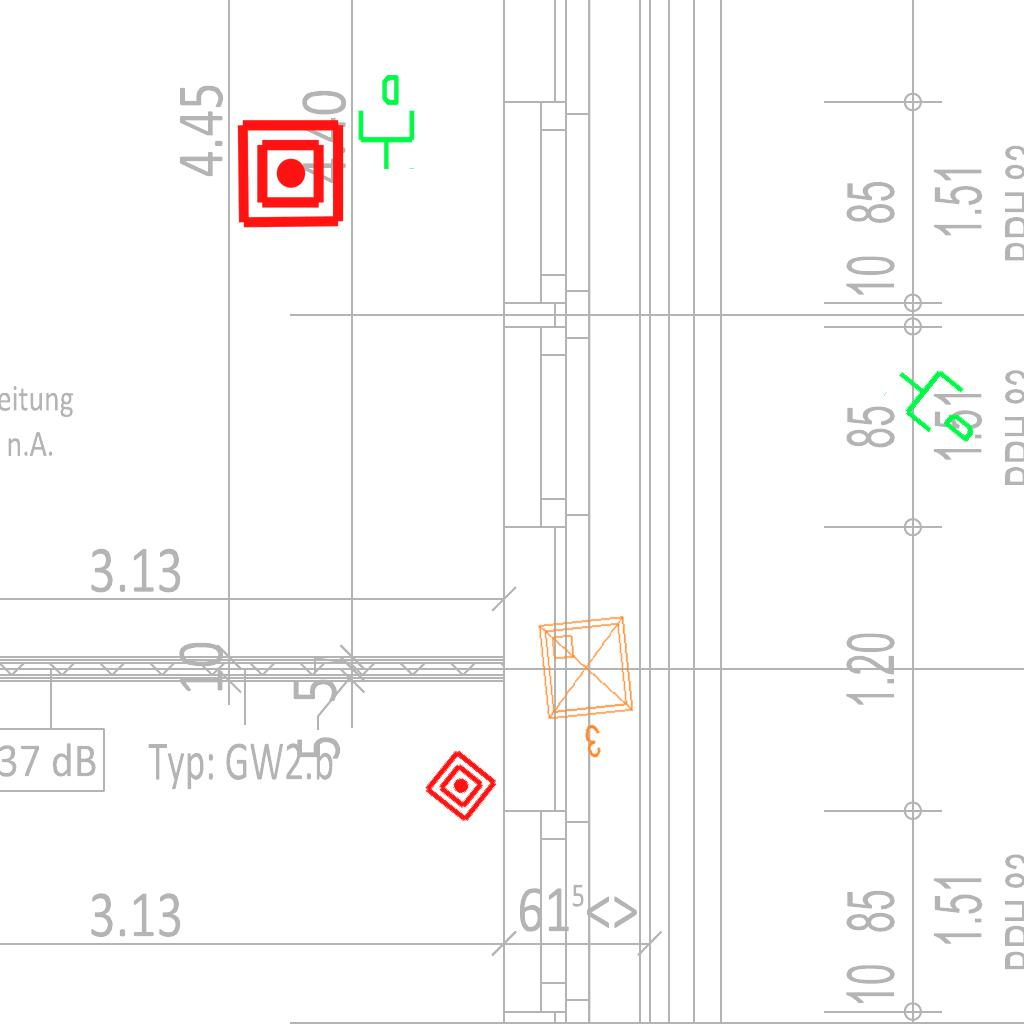Datenanschluss_einfach: (877, 343, 1000, 461), (350, 72, 419, 172)
Einbaudownlights_LED_Konferenzraeume: (530, 607, 650, 769)
NAM-Nichtautomatischer_Melder: (234, 117, 347, 230), (421, 746, 501, 826)
